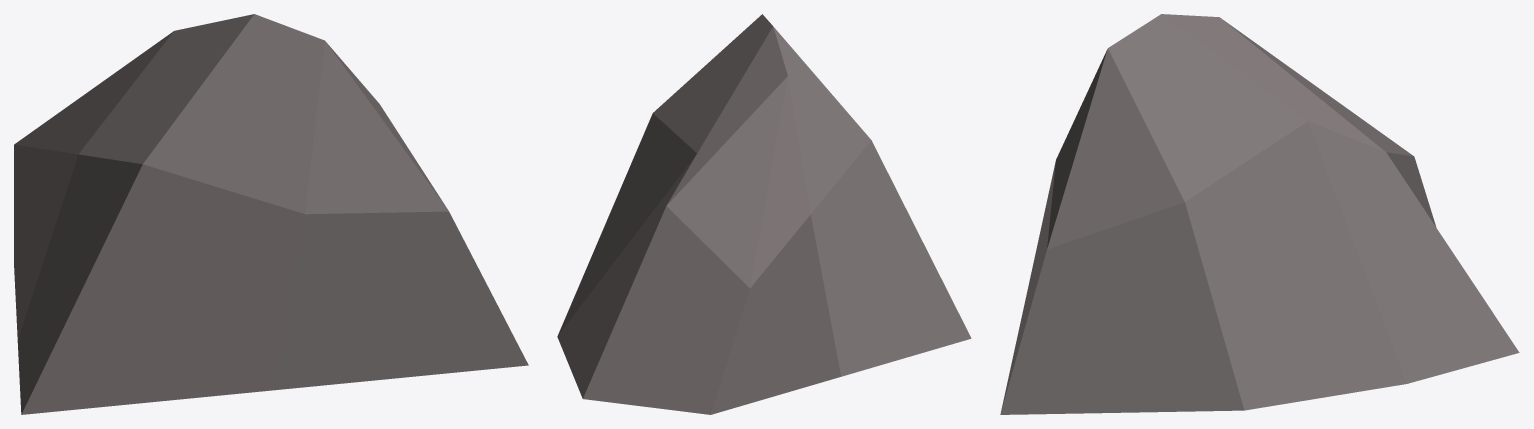
File: Rock1.fbx
3 views of the same model, side by side, from view 1: azimuth 30°, elevation 25°; view 2: azimuth 150°, elevation 25°; view 3: azimuth 270°, elevation 25° (orthographic). The views are drawn at different scales.
Parts seen in each view (by area): view 1: Cube; view 2: Cube; view 3: Cube.
Part boxes in pixels (<box>): Cube: <box>14,14,528,414</box>; Cube: <box>557,14,971,414</box>; Cube: <box>1000,14,1519,414</box>.
Bounding box in the file's own units: 2.24 × 2.01 × 1.56.
Materials: 1 (1 with a texture image).
